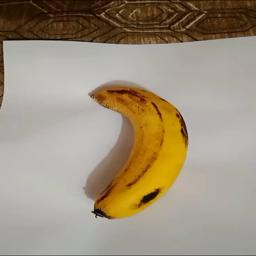Banana Semifresh: (86, 80, 193, 221)
